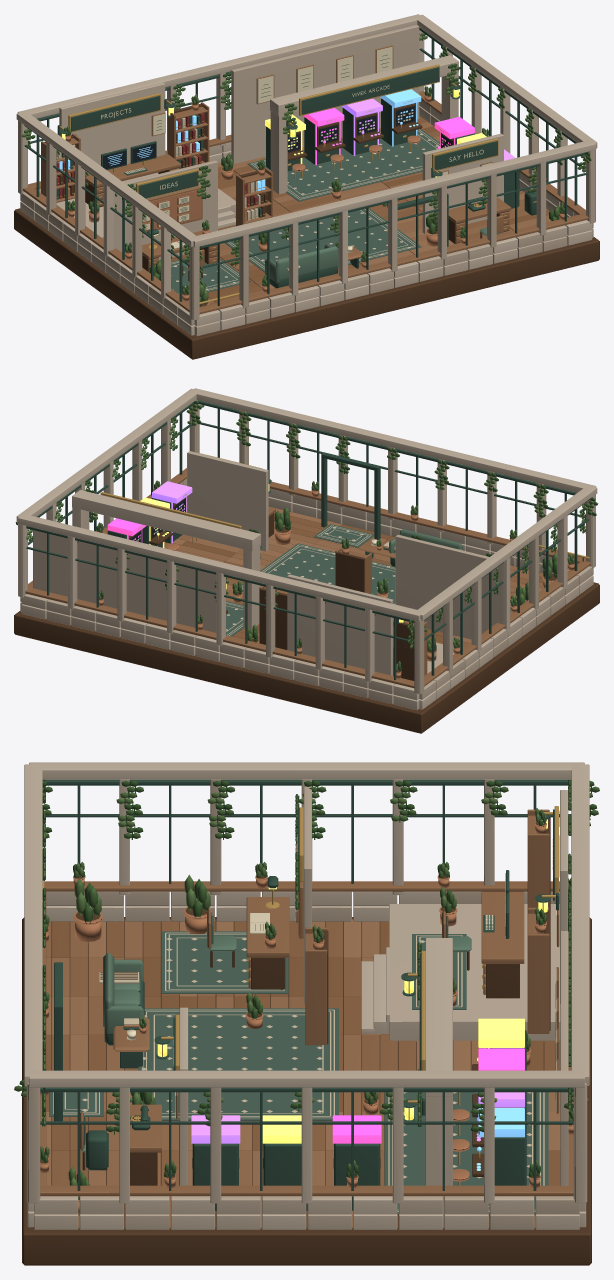
The model's file is sunset-studio.glb.
3 renders of one model, top to bottom at view 1: azimuth 30°, elevation 25°; view 2: azimuth 150°, elevation 25°; view 3: azimuth 270°, elevation 25°, orthographic. The views are drawn at different scales.
Visible parts, largest first — view 1: Foundation, Arcade back, Wall_S_Stone cornice, Woven carpet.002, Projects back panel, Woven carpet.003, Wall_N_Stone cornice, Wall_W_Stone cornice, Wall_E_Stone cornice, Wall_S_Window sill, Ideas partition, Contact partition (+42 smaller); view 2: Foundation, Arcade back, Ideas partition, Projects back panel, Contact partition, Wall_N_Stone cornice, Wall_S_Stone cornice, Arcade lintel, Wall_W_Stone cornice, Wall_E_Stone cornice, Woven carpet.003, Wall_N_Window sill (+34 smaller); view 3: Foundation, Woven carpet.003, Wall_E_Stone cornice, Projects platform, Wall_W_Stone cornice, Wall_N_Stone cornice, Wall_S_Stone cornice, Wall_E_Window sill, Woven carpet.002, Woven carpet.001, Wall_W_Window sill, Arcade lintel (+83 smaller).
Boxes of the visible parts, box(x1,y1,x2,y2) form: Foundation: box(14, 208, 599, 359); Arcade back: box(231, 24, 419, 163); Wall_S_Stone cornice: box(190, 140, 596, 247); Woven carpet.002: box(247, 128, 440, 201); Projects back panel: box(59, 82, 165, 173); Woven carpet.003: box(225, 208, 421, 272); Wall_N_Stone cornice: box(17, 14, 423, 118); Wall_W_Stone cornice: box(16, 111, 195, 246); Wall_E_Stone cornice: box(414, 14, 597, 148); Wall_S_Window sill: box(199, 213, 588, 314); Ideas partition: box(113, 160, 217, 260); Contact partition: box(422, 133, 503, 234); Foundation: box(14, 582, 599, 733); Arcade back: box(33, 530, 216, 632); Ideas partition: box(395, 534, 500, 639); Projects back panel: box(287, 574, 393, 675); Contact partition: box(187, 451, 268, 551); Wall_N_Stone cornice: box(17, 514, 423, 621); Wall_S_Stone cornice: box(190, 388, 596, 492); Arcade lintel: box(72, 490, 260, 551); Wall_W_Stone cornice: box(418, 487, 597, 620); Wall_E_Stone cornice: box(16, 388, 199, 522); Woven carpet.003: box(241, 543, 395, 603); Wall_N_Window sill: box(25, 588, 414, 688); Foundation: box(22, 917, 591, 1265); Woven carpet.003: box(138, 1008, 338, 1120); Wall_E_Stone cornice: box(29, 1070, 584, 1087); Projects platform: box(389, 904, 560, 1041); Wall_W_Stone cornice: box(29, 762, 584, 779); Wall_N_Stone cornice: box(571, 764, 589, 1085); Wall_S_Stone cornice: box(24, 764, 42, 1085); Wall_E_Window sill: box(40, 1185, 573, 1196); Woven carpet.002: box(384, 1092, 548, 1214); Woven carpet.001: box(161, 931, 288, 993); Wall_W_Window sill: box(44, 881, 559, 891); Arcade lintel: box(425, 938, 452, 1096).
Bounding box in the file's own units: 16.85 × 4.58 × 12.85.
